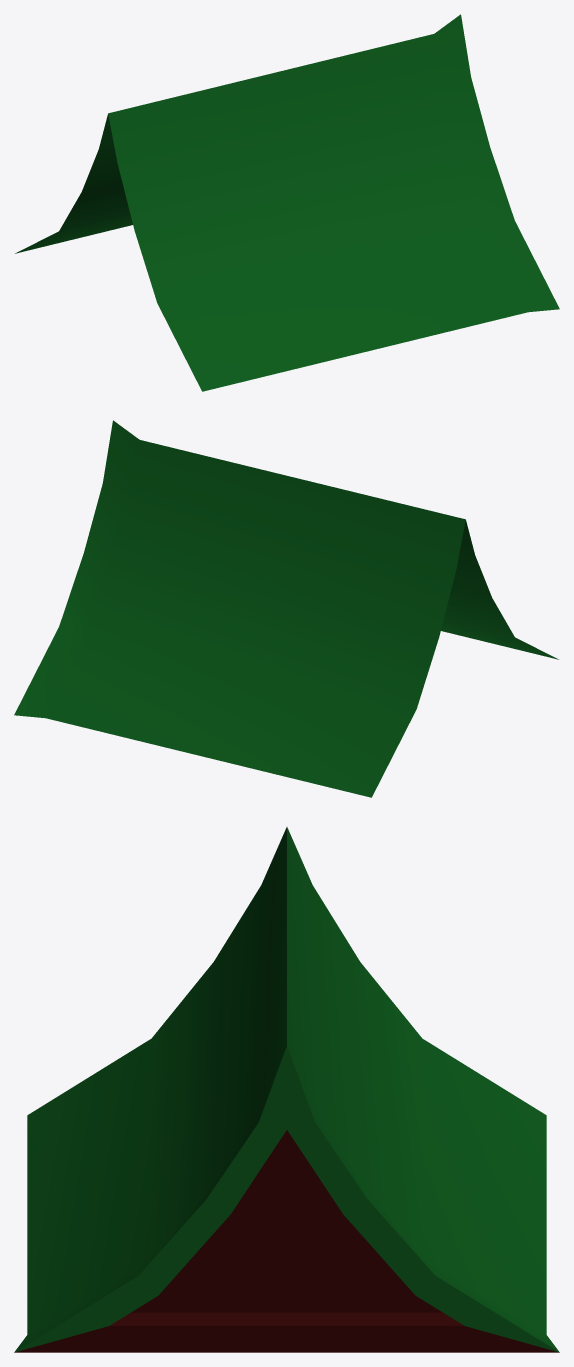
File: PalaceDormer.FBX
The picture shows the model from 3 angles, top to bottom: view 1: azimuth 30°, elevation 25°; view 2: azimuth 150°, elevation 25°; view 3: azimuth 270°, elevation 25°; orthographic projection. The views are drawn at different scales.
Visible parts, largest first — view 1: Dormer; view 2: Dormer; view 3: Dormer.
Boxes of the visible parts, bbox=[...] form: Dormer: bbox=[15, 14, 559, 391]; Dormer: bbox=[14, 420, 558, 797]; Dormer: bbox=[14, 827, 559, 1352].
Size of the model in its own units: 574 by 346 by 558.
